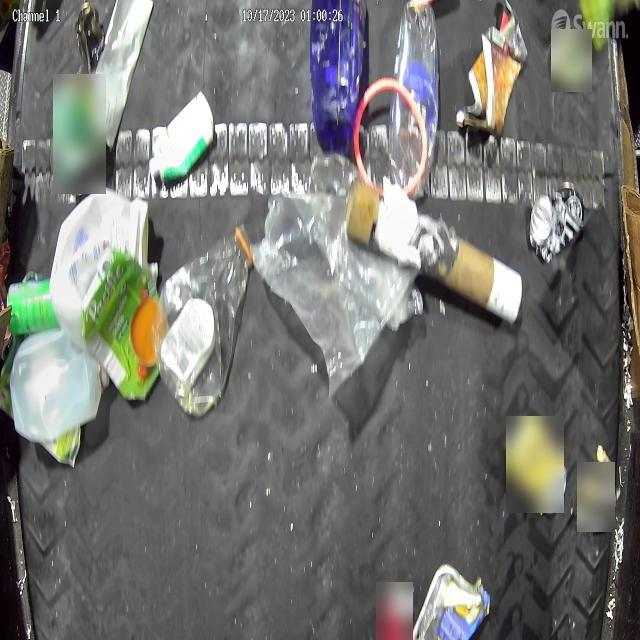milk_jug: (49, 187, 149, 331), (6, 330, 106, 444)
plastic_bottle: (158, 230, 252, 416)
